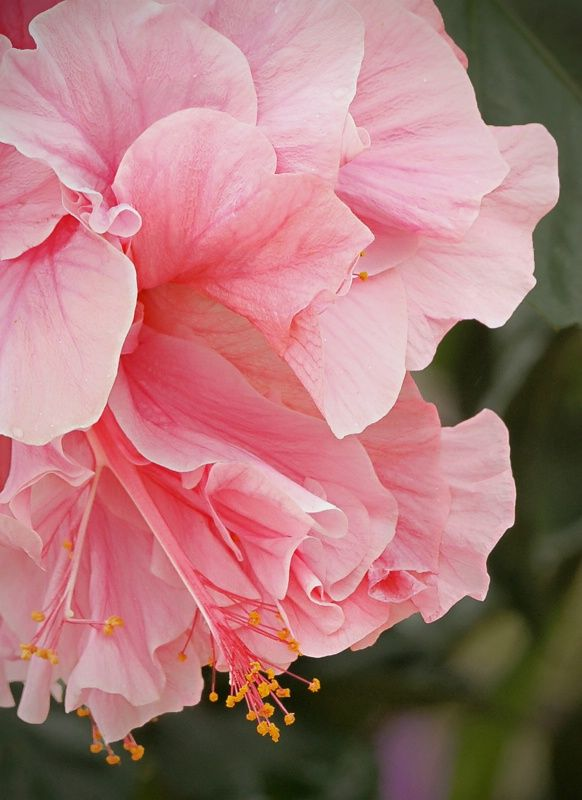Hibiscus: (1, 5, 555, 751)
